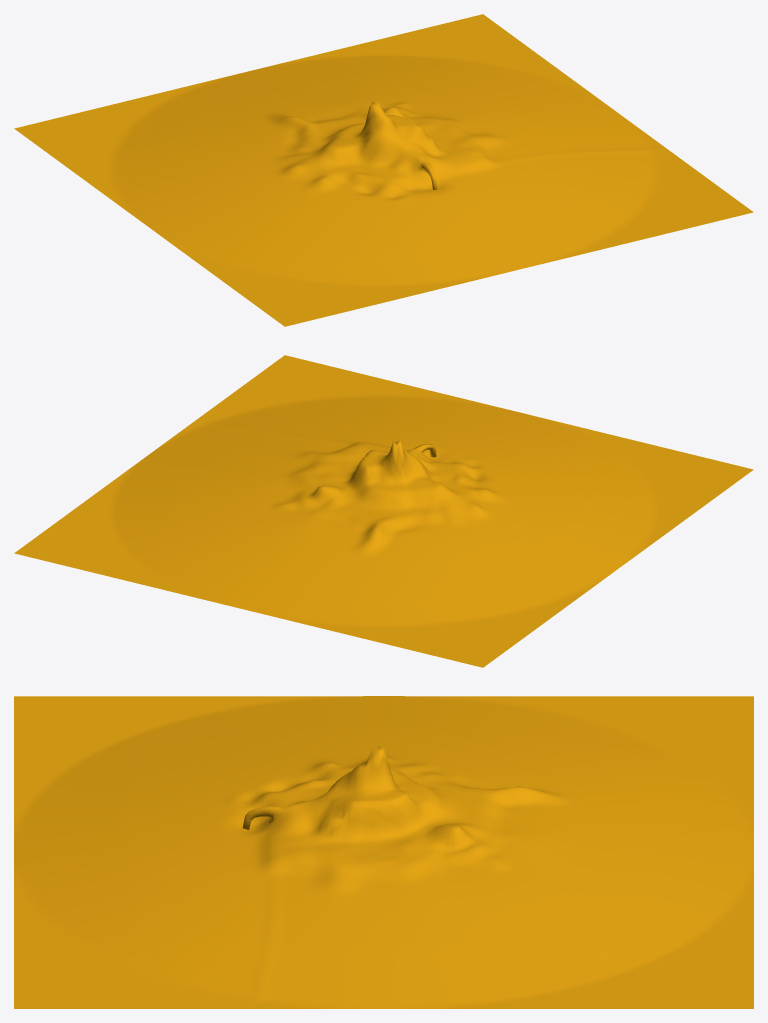
Rendered from IslaAA 1.fbx.
The picture shows the model from 3 angles, top to bottom: view 1: azimuth 30°, elevation 25°; view 2: azimuth 150°, elevation 25°; view 3: azimuth 270°, elevation 25°; orthographic projection. The views are drawn at different scales.
Parts seen in each view (by area): view 1: Terrain; view 2: Terrain; view 3: Terrain.
Boxes of the visible parts, box(x1,y1,x2,y2) form: Terrain: box(14, 14, 753, 326); Terrain: box(14, 355, 753, 667); Terrain: box(14, 696, 753, 1008).
Bounding box in the file's own units: 59384 × 8686 × 59385.
